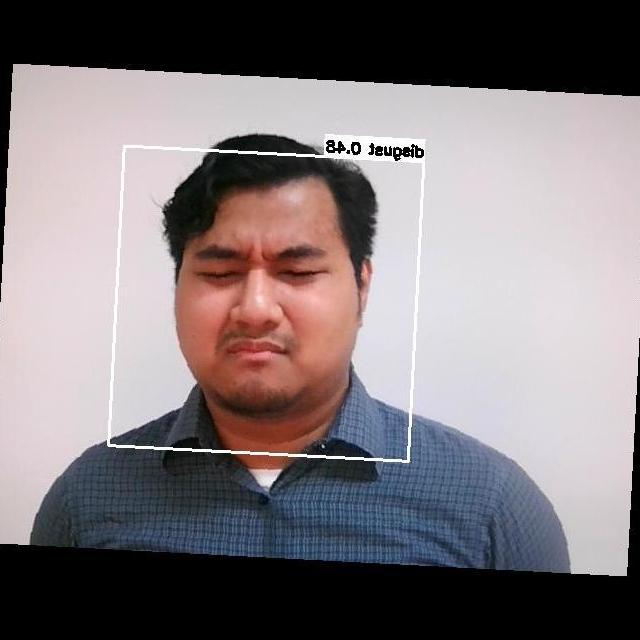Disgust: (172, 217, 367, 386)
